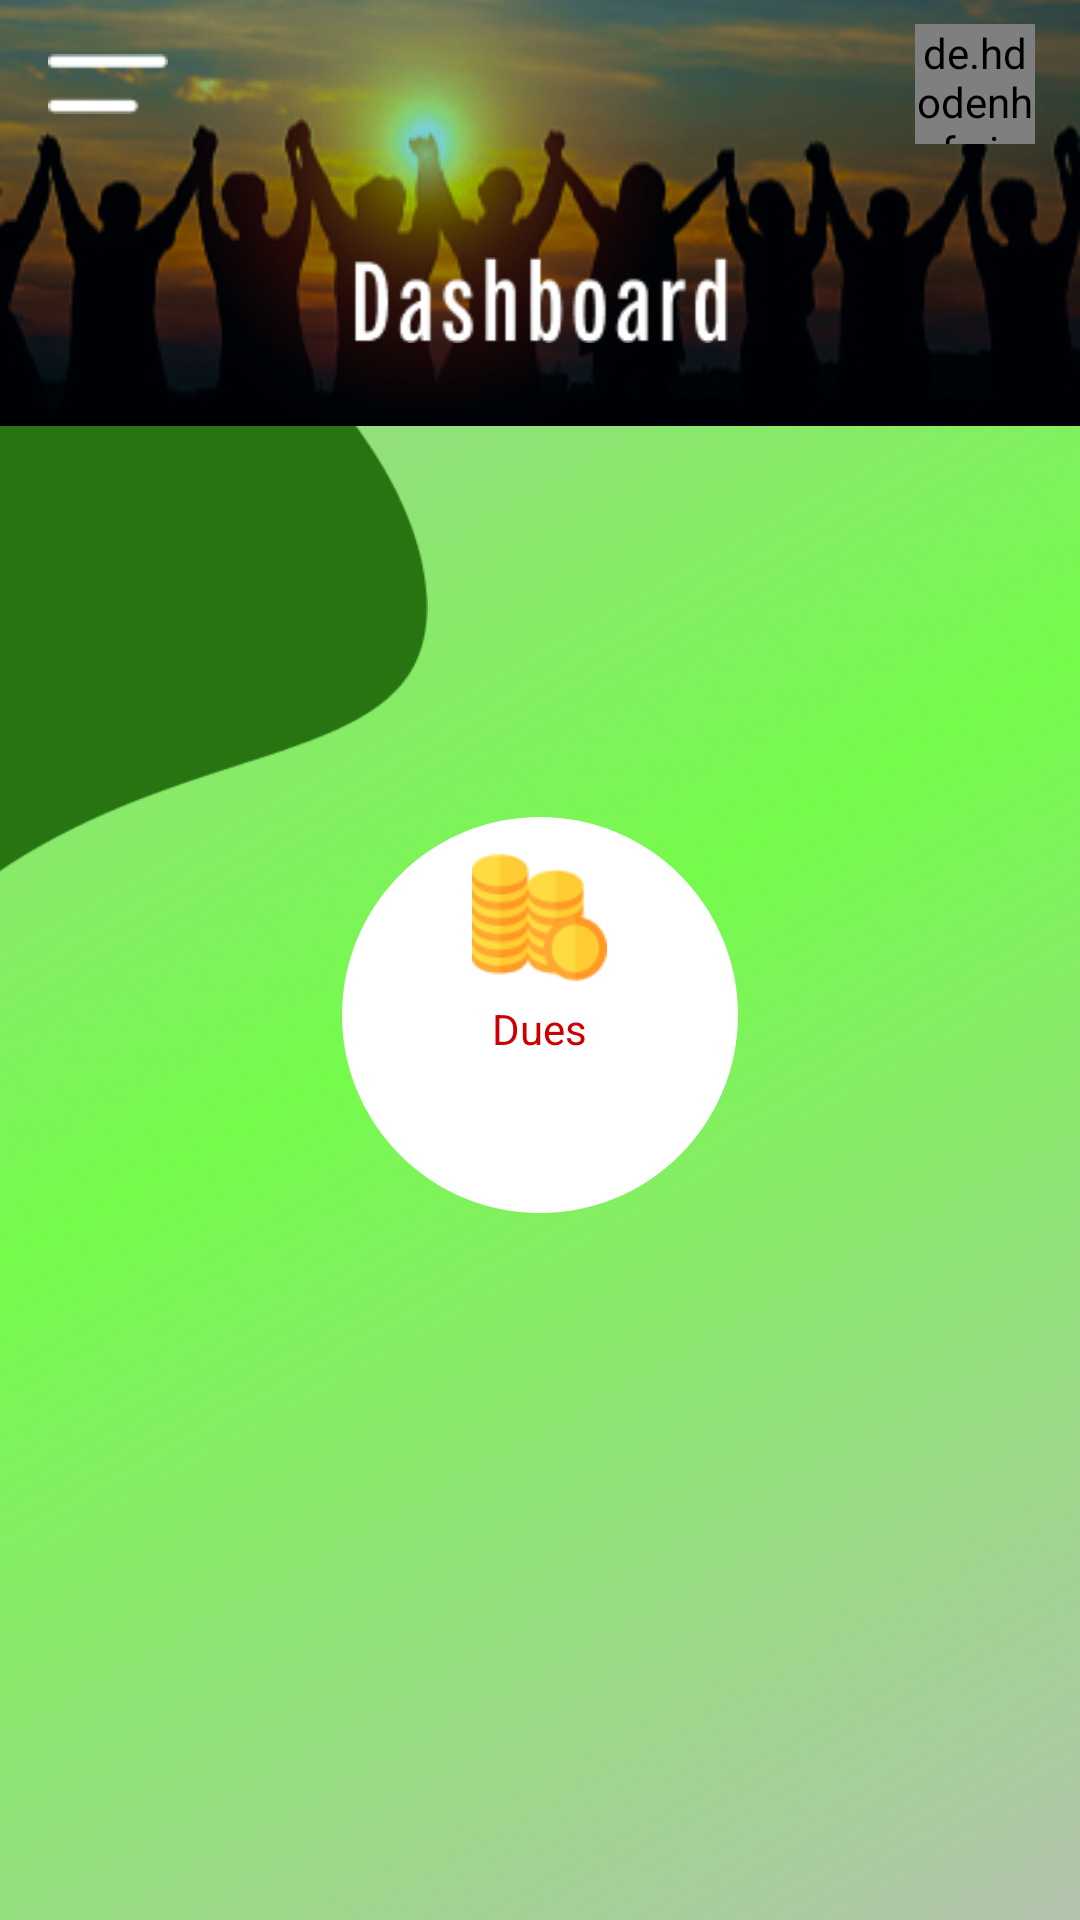

Where to tap for icons on this 1080×1920 app screen, as (x,y):
currency: (539,918)
menu: (108,84)
